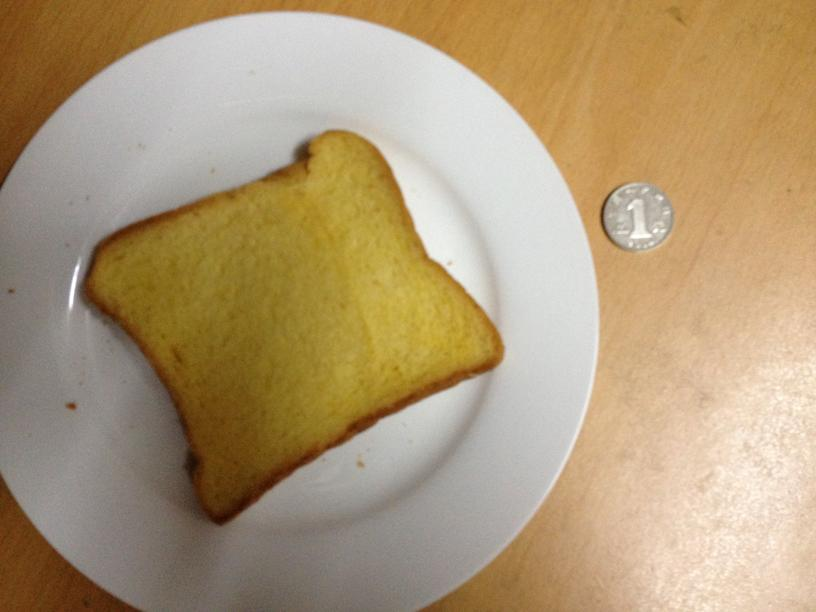bread: (72, 126, 506, 526)
coin: (604, 181, 673, 252)
